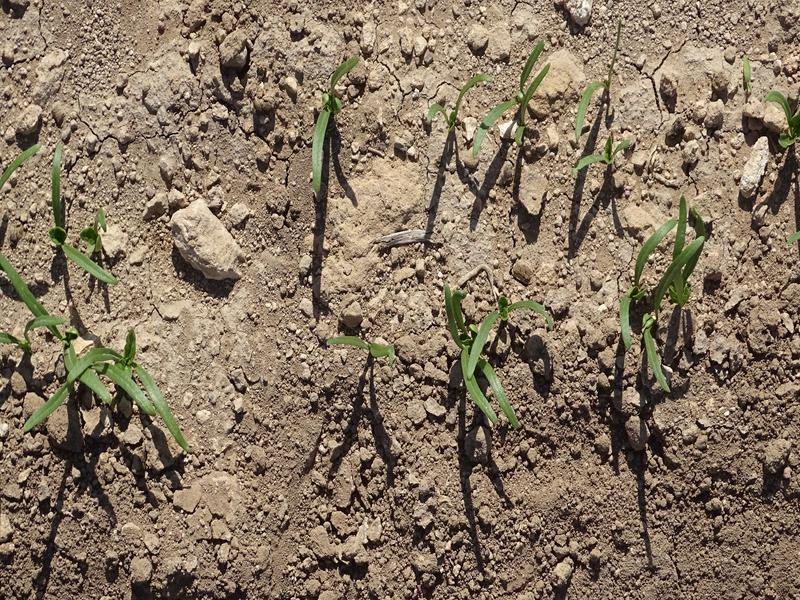Espinaca: (433, 50, 633, 168), (33, 342, 199, 451), (437, 282, 555, 430), (615, 199, 703, 382), (1, 149, 59, 332), (48, 147, 119, 281), (310, 53, 359, 197), (767, 87, 800, 156)
